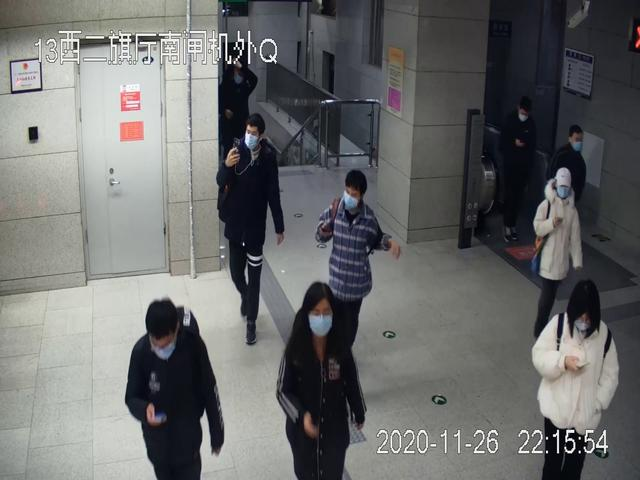person: (123, 298, 225, 480), (315, 169, 403, 373), (277, 281, 367, 480), (532, 281, 620, 480), (216, 114, 285, 348), (530, 167, 584, 340), (497, 96, 533, 244), (547, 124, 587, 255)
